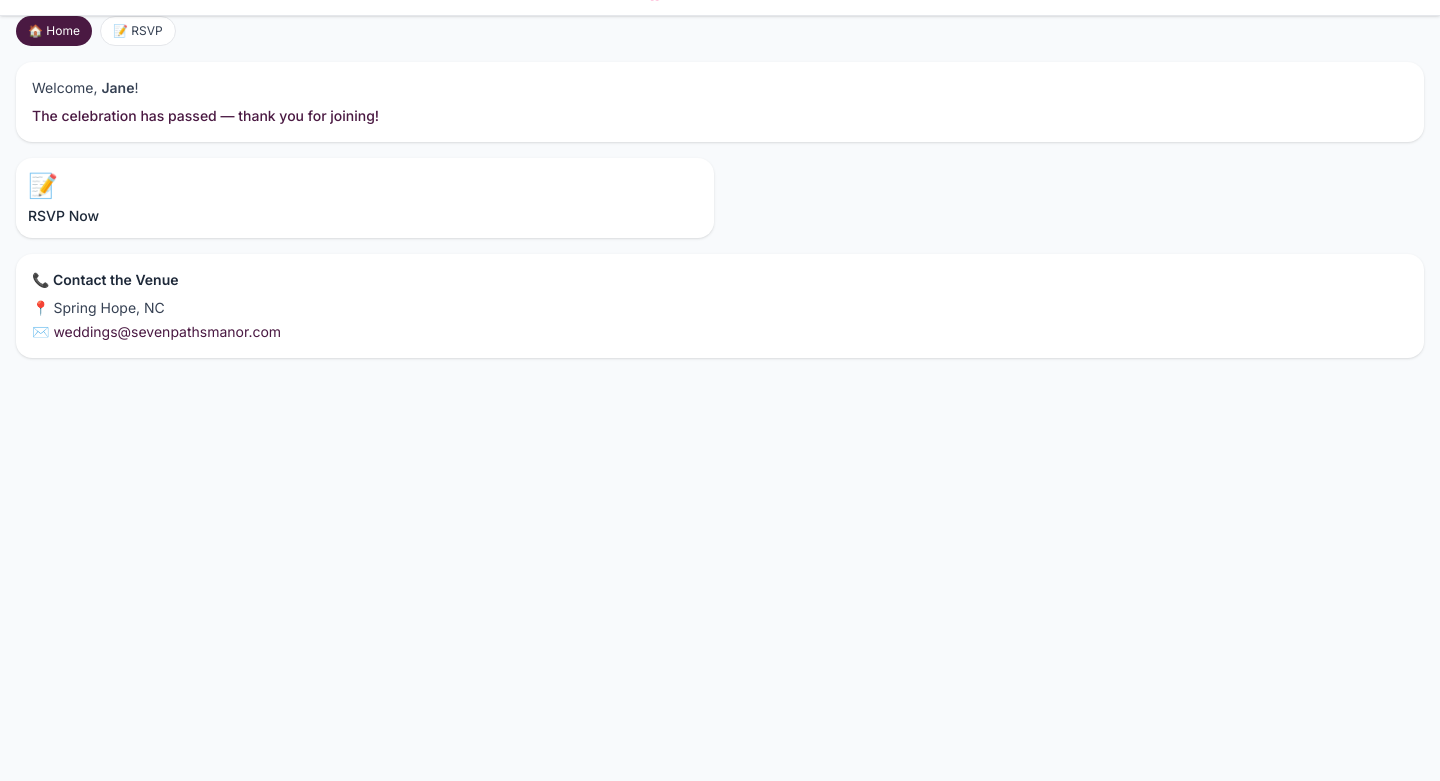
GuestPortal legacy token compatibility when cloud accounts are unavailable › uses couple-scoped RSVP submissions instead of the legacy venue RSVP store
Expected: the text "Jane" is shown, top-left (101, 79), bottom-right (134, 96)
Click the button "📝 RSVP Now": x=64, y=216 top-left (16, 158), bottom-right (714, 238)
(page scrolled)
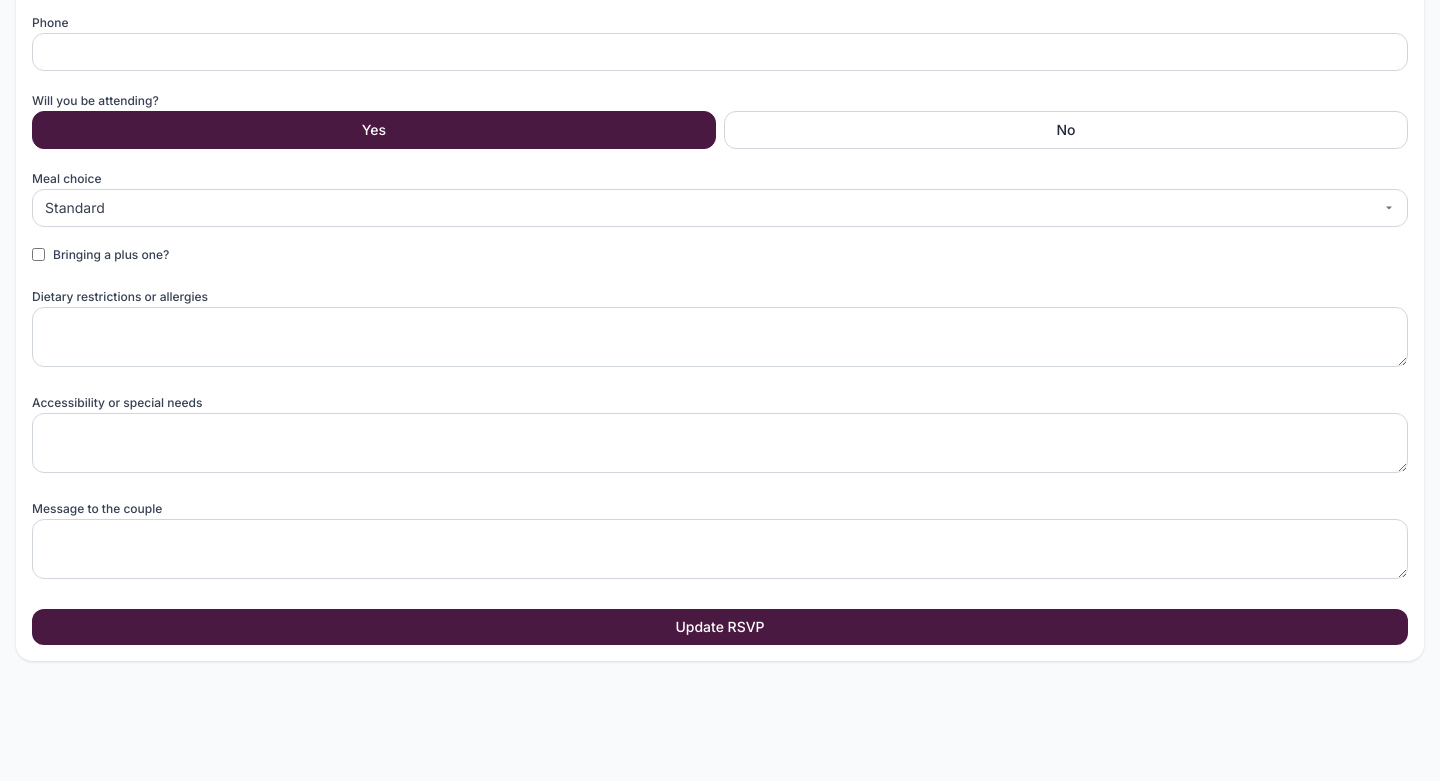
Result: the button "Update RSVP" is shown at top-left (32, 609), bottom-right (1408, 645)
